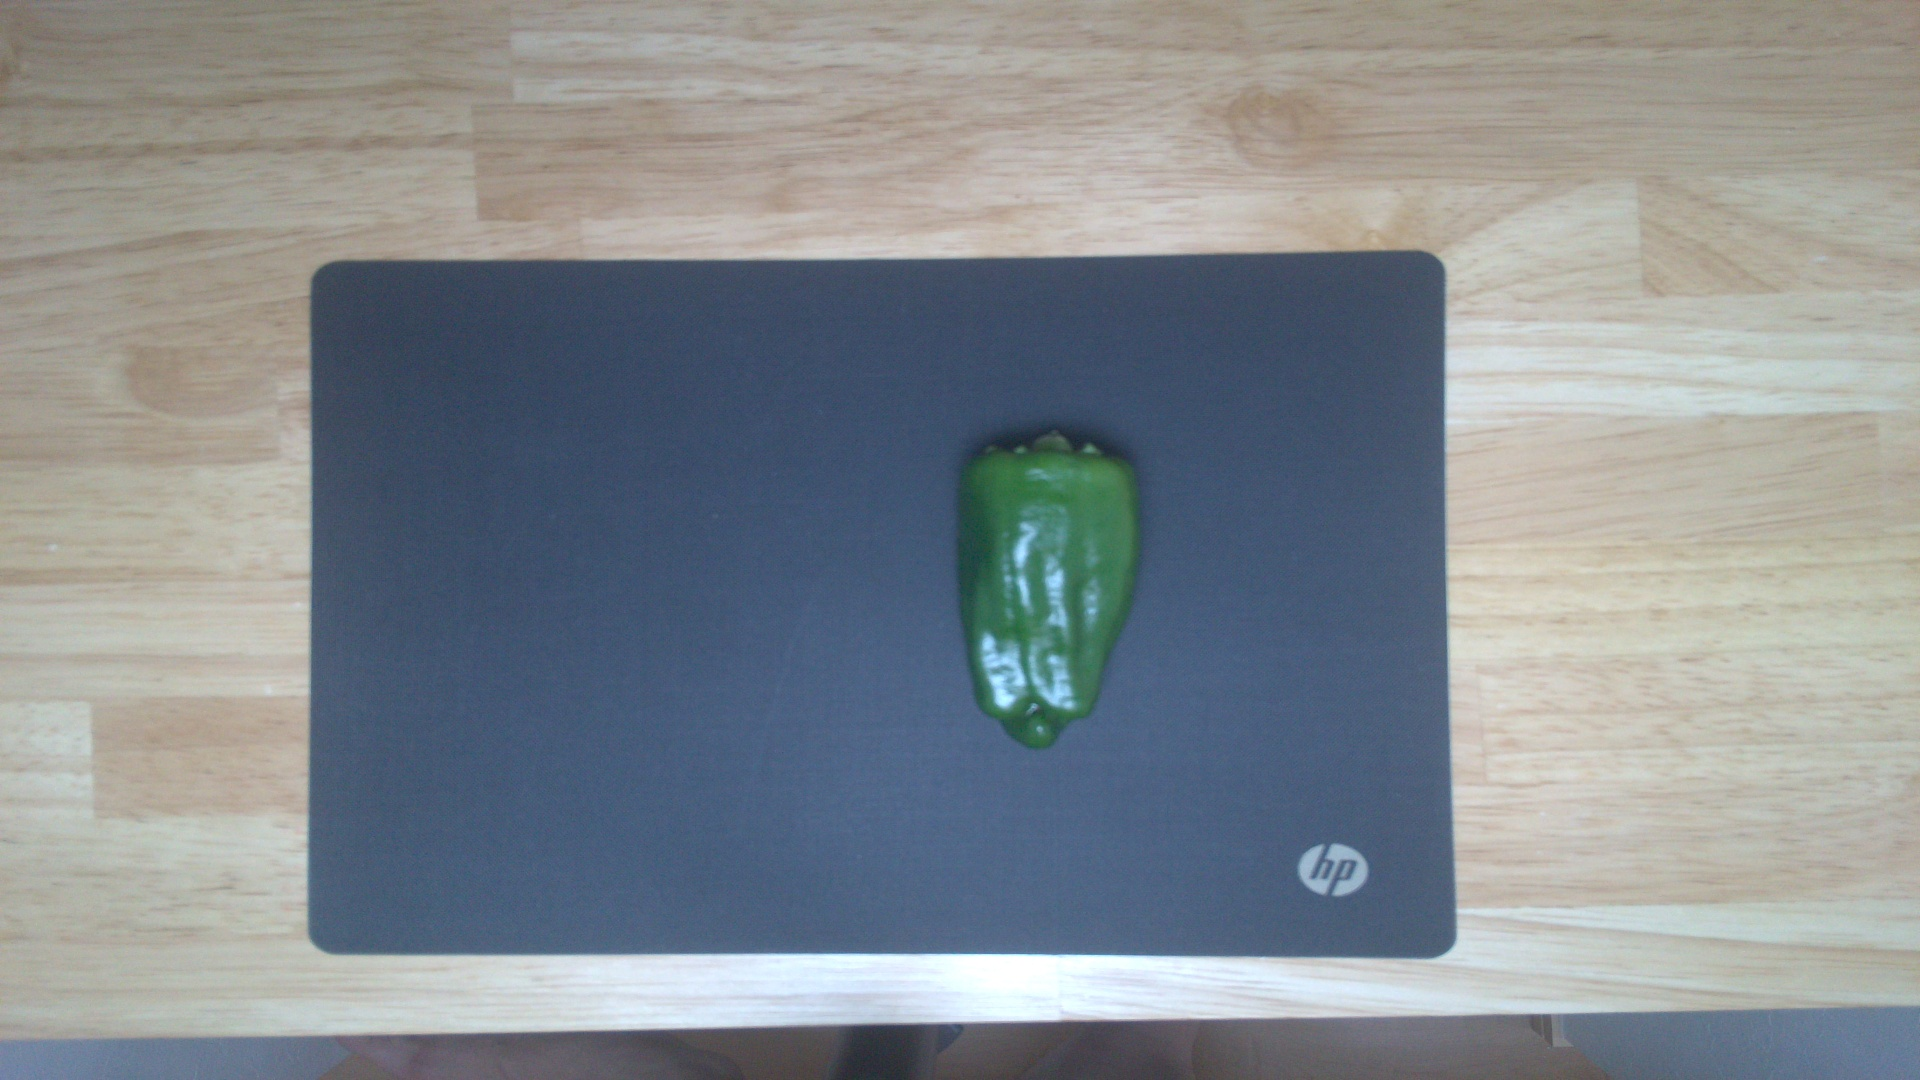Piman: (956, 426, 1145, 750)
